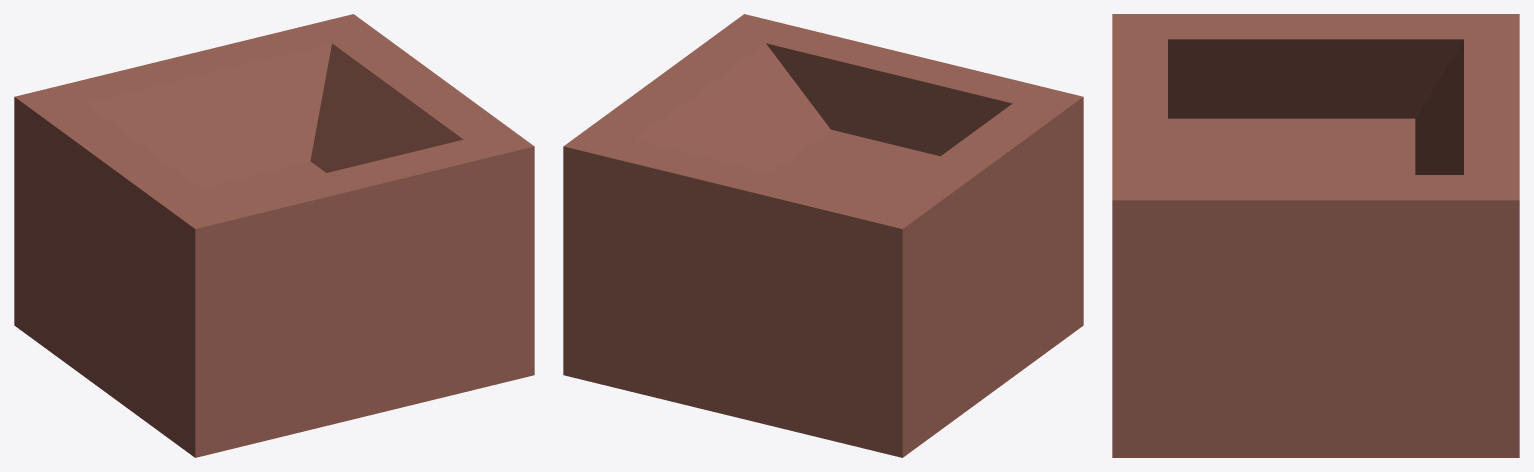
Rendered from estoque.glb.
The picture shows the model from 3 angles, left to right: view 1: azimuth 30°, elevation 25°; view 2: azimuth 150°, elevation 25°; view 3: azimuth 270°, elevation 25°; orthographic projection. The views are drawn at different scales.
Parts seen in each view (by area): view 1: Cube; view 2: Cube; view 3: Cube.
Boxes of the visible parts, x1,y1,x2,y2 form: Cube: [14, 14, 534, 457]; Cube: [563, 14, 1083, 457]; Cube: [1112, 14, 1519, 457].
Size of the model in its own units: 3.61 by 2.33 by 3.33.
